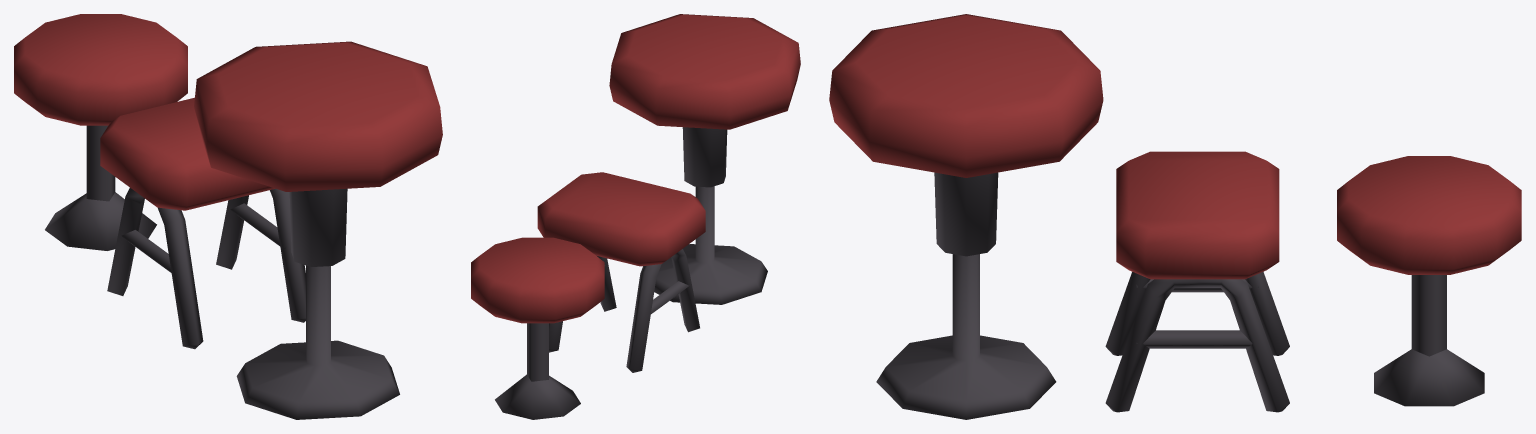
File: stools.fbx
The picture shows the model from 3 angles, left to right: view 1: azimuth 30°, elevation 25°; view 2: azimuth 150°, elevation 25°; view 3: azimuth 270°, elevation 25°; orthographic projection. The views are drawn at different scales.
Parts seen in each view (by area): view 1: BarStool Large, BarStool, Stool; view 2: BarStool Large, Stool, BarStool; view 3: BarStool Large, Stool, BarStool.
Boxes of the visible parts, x1=… form: BarStool Large: x1=194, y1=41, x2=442, y2=419; BarStool: x1=14, y1=14, x2=187, y2=250; Stool: x1=100, y1=97, x2=305, y2=349; BarStool Large: x1=609, y1=14, x2=800, y2=304; Stool: x1=537, y1=172, x2=705, y2=372; BarStool: x1=471, y1=237, x2=604, y2=419; BarStool Large: x1=829, y1=14, x2=1103, y2=419; Stool: x1=1105, y1=151, x2=1289, y2=412; BarStool: x1=1337, y1=156, x2=1521, y2=406.
Size of the model in its own units: 0.5925 by 0.7645 by 1.5.
